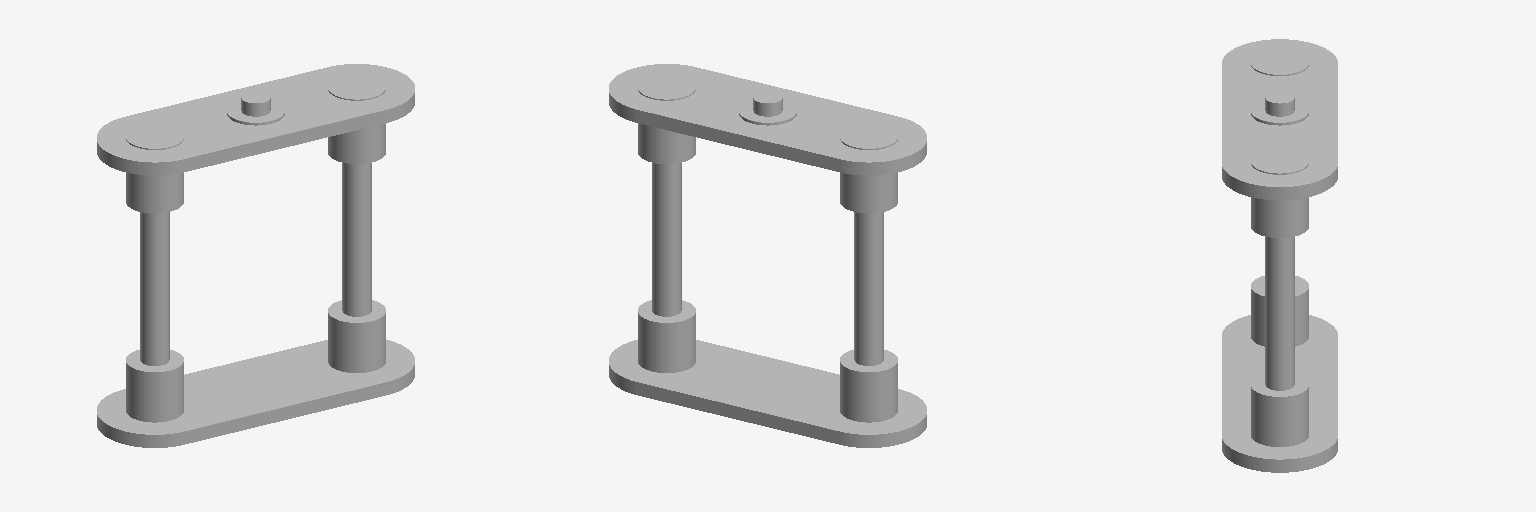
3 views of the same model, side by side, from view 1: azimuth 30°, elevation 25°; view 2: azimuth 150°, elevation 25°; view 3: azimuth 270°, elevation 25° (orthographic).
Visible parts, largest first — view 1: Зеркальное отражение3; view 2: Зеркальное отражение3; view 3: Зеркальное отражение3.
Boxes of the visible parts, <box> form: Зеркальное отражение3: <box>97,64,414,447</box>; Зеркальное отражение3: <box>609,64,926,447</box>; Зеркальное отражение3: <box>1222,39,1337,472</box>.
Bounding box in the file's own units: 0.1218 × 0.1218 × 0.0406.